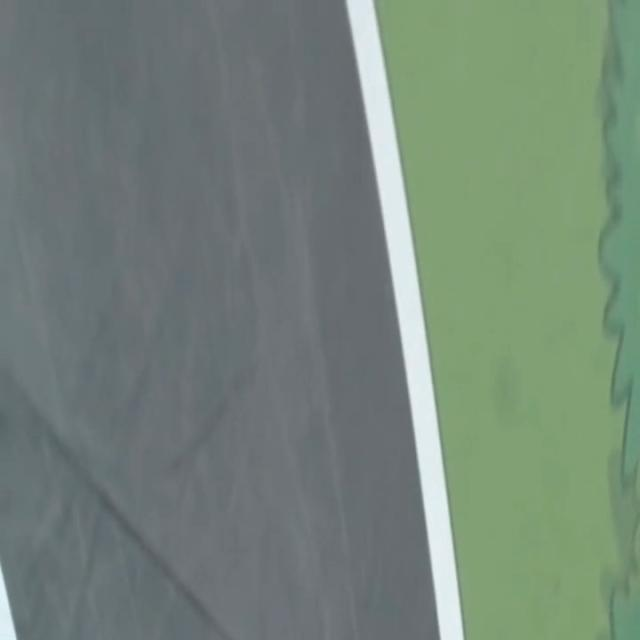center: (0, 566, 16, 639)
right: (345, 0, 464, 639)
